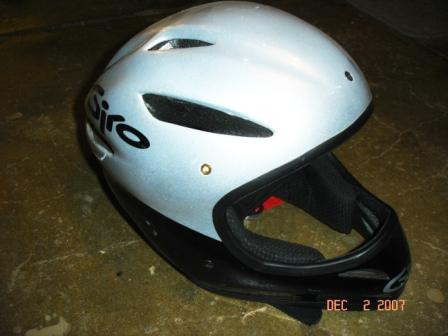helmet: (79, 24, 402, 281)
